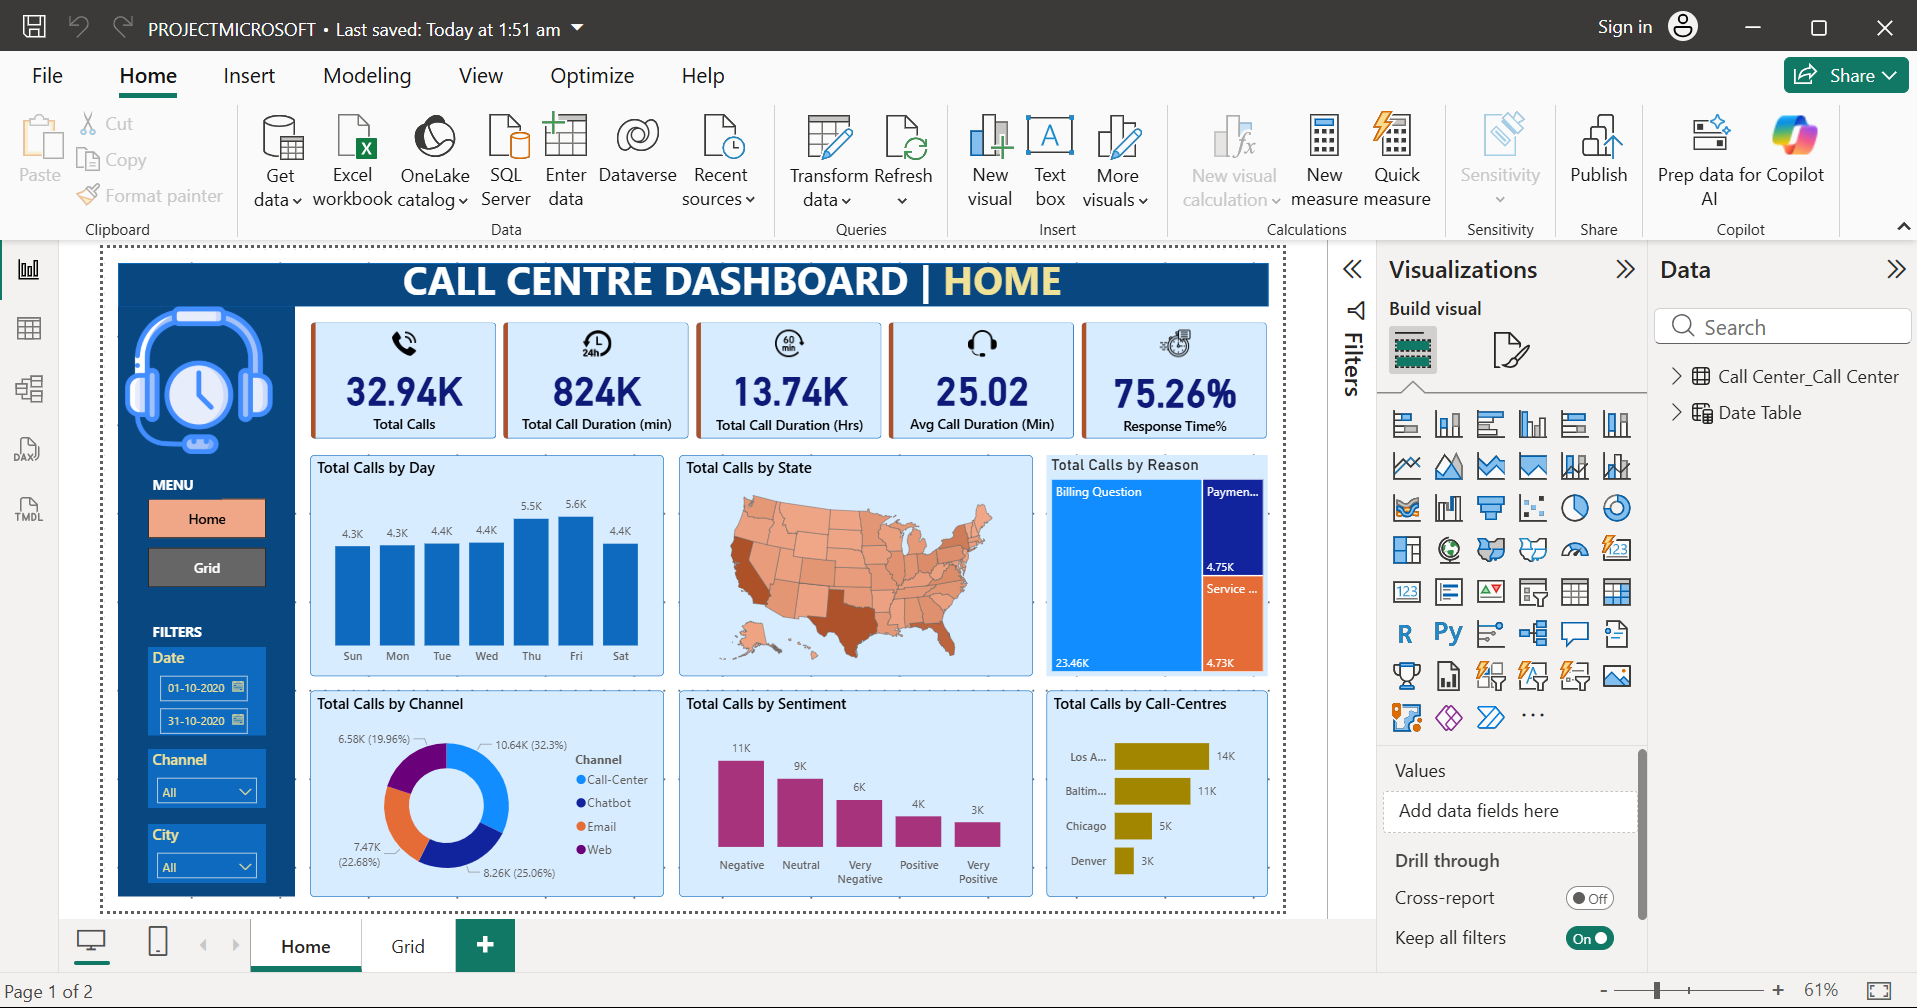

This screenshot's page, from the dashboard's own definition file:
{"tool":"powerbi","page":{"name":"Home","canvas":[1280,720],"ordinal":0},"visuals":[{"type":"shape","box":[16,16,1248,48],"z":0},{"type":"shape","box":[16,64,192,640],"z":1000},{"type":"cardVisual","fields":{"Data":["Call Center_Call Center.Total Calls","Call Center_Call Center.Total Call Duration (min)","Call Center_Call Center.Total Call Duration (Hrs)","Call Center_Call Center.Avg Call Duration (Min)","Call Center_Call Center.Response Time%"]},"box":[208,64,1072,160],"z":2000},{"type":"textbox","box":[320,0,752,80],"z":3000},{"type":"columnChart","fields":{"Category":["Date Table.Day"],"Y":["Call Center_Call Center.Total Calls"]},"box":[224,224,384,240],"z":4000},{"type":"shapeMap","fields":{"Category":["Call Center_Call Center.State"],"Value":["Call Center_Call Center.Total Calls"]},"box":[624,224,384,240],"z":5000},{"type":"treemap","fields":{"Group":["Call Center_Call Center.Reason"],"Values":["Call Center_Call Center.Total Calls"]},"box":[1024,224,240,240],"z":6000},{"type":"donutChart","fields":{"Category":["Call Center_Call Center.Channel"],"Y":["Call Center_Call Center.Total Calls"]},"box":[224,480,384,224],"z":7000},{"type":"columnChart","fields":{"Category":["Call Center_Call Center.Sentiment"],"Y":["Call Center_Call Center.Total Calls"]},"box":[624,480,384,224],"z":8000},{"type":"barChart","fields":{"Category":["Call Center_Call Center.Call-Centres City"],"Y":["Call Center_Call Center.Total Calls"]},"box":[1024,480,240,224],"z":9000},{"type":"slicer","title":"Date","fields":{"Values":["Date Table.Date"]},"box":[48,432,128,96],"z":10000},{"type":"slicer","title":"Channel","fields":{"Values":["Call Center_Call Center.Channel"]},"box":[48,544,128,64],"z":11000},{"type":"slicer","title":"City","fields":{"Values":["Call Center_Call Center.City"]},"box":[48,624,128,64],"z":12000},{"type":"image","box":[0,64,208,160],"z":13000},{"type":"pageNavigator","box":[48,272,128,96],"z":14000},{"type":"textbox","box":[48,240,80,32],"z":15000},{"type":"textbox","box":[48,400,96,32],"z":16000}]}

Visuals, with their boxes on the page's 1280x720 design canvas (x1, y1, x2, y2). These are canvas units, not pixel positions in the 1917x1008 screenshot, which may show the page scaled, cropped or inside an application window:
shape: select_region(16, 16, 1264, 64)
shape: select_region(16, 64, 208, 704)
cardVisual - Call Center_Call Center.Total Calls x Call Center_Call Center.Total Call Duration (min): select_region(208, 64, 1280, 224)
textbox: select_region(320, 0, 1072, 80)
columnChart - Date Table.Day x Call Center_Call Center.Total Calls: select_region(224, 224, 608, 464)
shapeMap - Call Center_Call Center.State x Call Center_Call Center.Total Calls: select_region(624, 224, 1008, 464)
treemap - Call Center_Call Center.Reason x Call Center_Call Center.Total Calls: select_region(1024, 224, 1264, 464)
donutChart - Call Center_Call Center.Channel x Call Center_Call Center.Total Calls: select_region(224, 480, 608, 704)
columnChart - Call Center_Call Center.Sentiment x Call Center_Call Center.Total Calls: select_region(624, 480, 1008, 704)
barChart - Call Center_Call Center.Call-Centres City x Call Center_Call Center.Total Calls: select_region(1024, 480, 1264, 704)
"Date" slicer: select_region(48, 432, 176, 528)
"Channel" slicer: select_region(48, 544, 176, 608)
"City" slicer: select_region(48, 624, 176, 688)
image: select_region(0, 64, 208, 224)
pageNavigator: select_region(48, 272, 176, 368)
textbox: select_region(48, 240, 128, 272)
textbox: select_region(48, 400, 144, 432)
